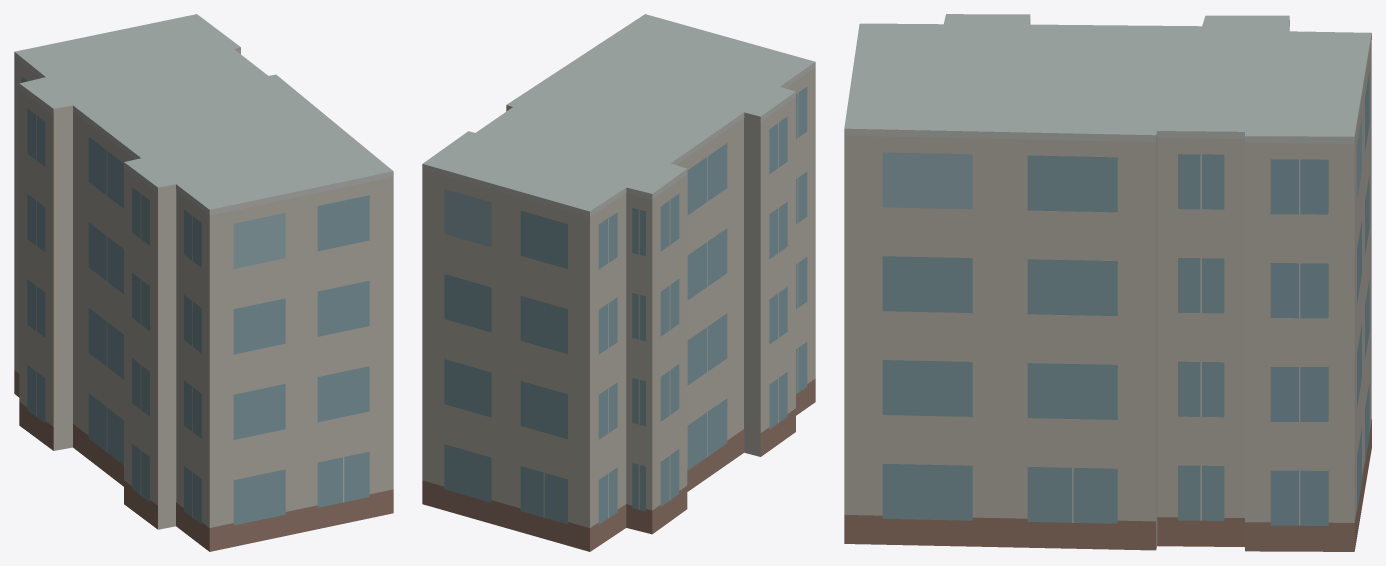
File: survey-upis-32942892.glb
3 renders of one model, left to right at view 1: azimuth 30°, elevation 25°; view 2: azimuth 150°, elevation 25°; view 3: azimuth 270°, elevation 25°, orthographic. The views are drawn at different scales.
Visible parts, largest first — view 1: survey-upis-32942892.tmp; view 2: survey-upis-32942892.tmp; view 3: survey-upis-32942892.tmp.
Part boxes in pixels (left/top/right/bottom): survey-upis-32942892.tmp: left=14, top=14, right=393, bottom=551; survey-upis-32942892.tmp: left=422, top=14, right=815, bottom=551; survey-upis-32942892.tmp: left=844, top=14, right=1371, bottom=551.
Size of the model in its own units: 9.33 by 14.7 by 16.94.
